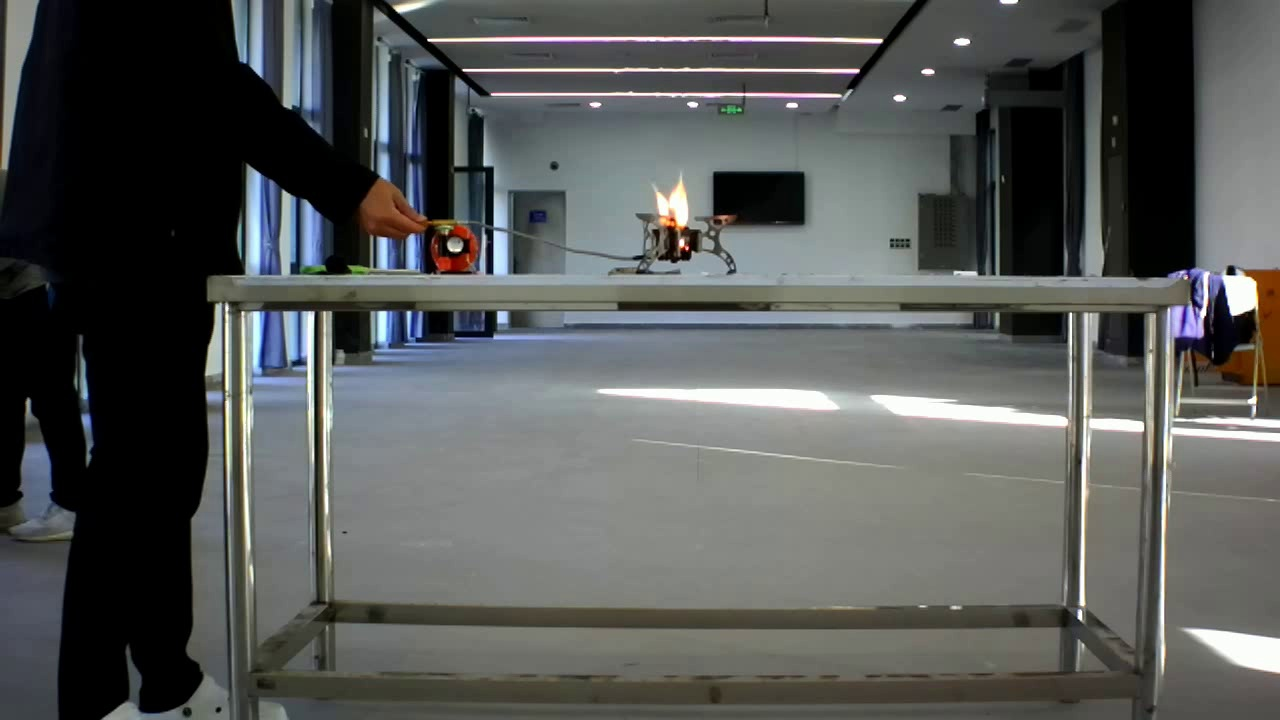Fire: (633, 157, 717, 249)
